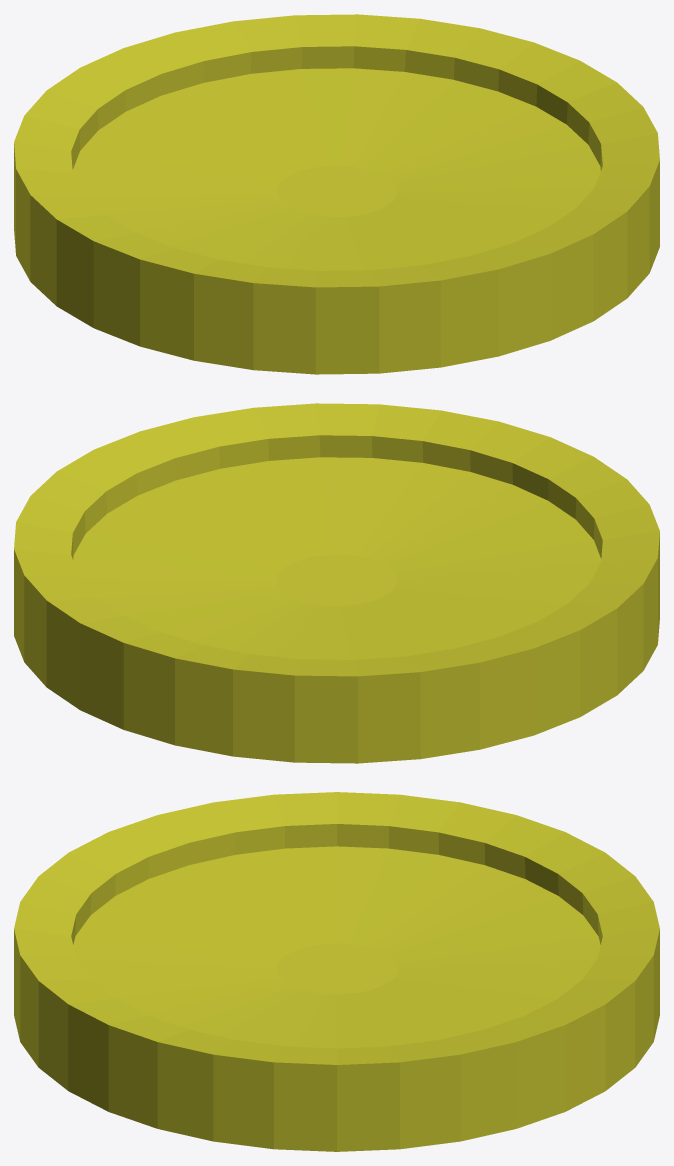
File: Coin.fbx
3 views of the same model, one above another, from view 1: azimuth 30°, elevation 25°; view 2: azimuth 150°, elevation 25°; view 3: azimuth 270°, elevation 25° (orthographic).
Visible parts, largest first — view 1: Circle; view 2: Circle; view 3: Circle.
Boxes of the visible parts, <box> form: Circle: <box>14,14,659,374</box>; Circle: <box>14,403,659,763</box>; Circle: <box>14,792,659,1151</box>.
Size of the model in its own units: 200 by 29.69 by 200.
